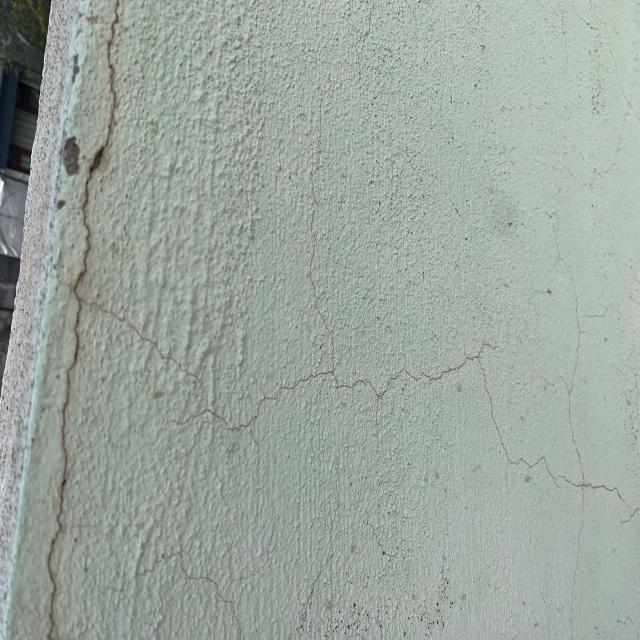multi-branched crack: (85, 2, 633, 640)
vertical crack: (0, 0, 156, 640)
